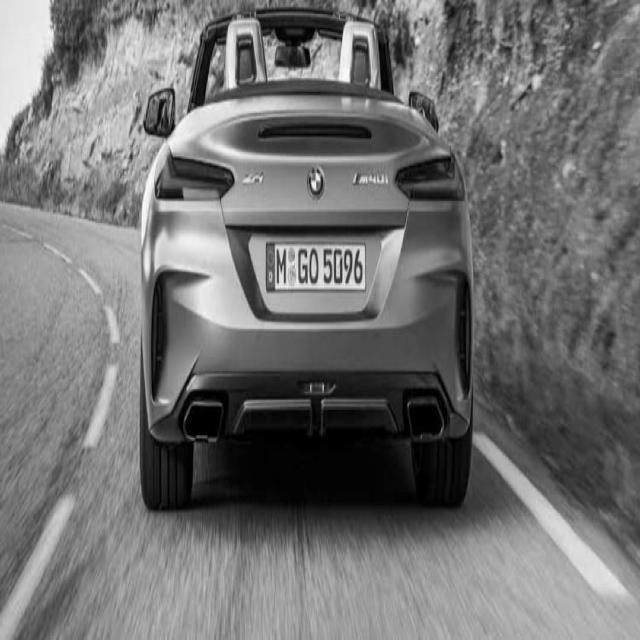car: (133, 0, 479, 542)
license-plate: (265, 238, 367, 293)
